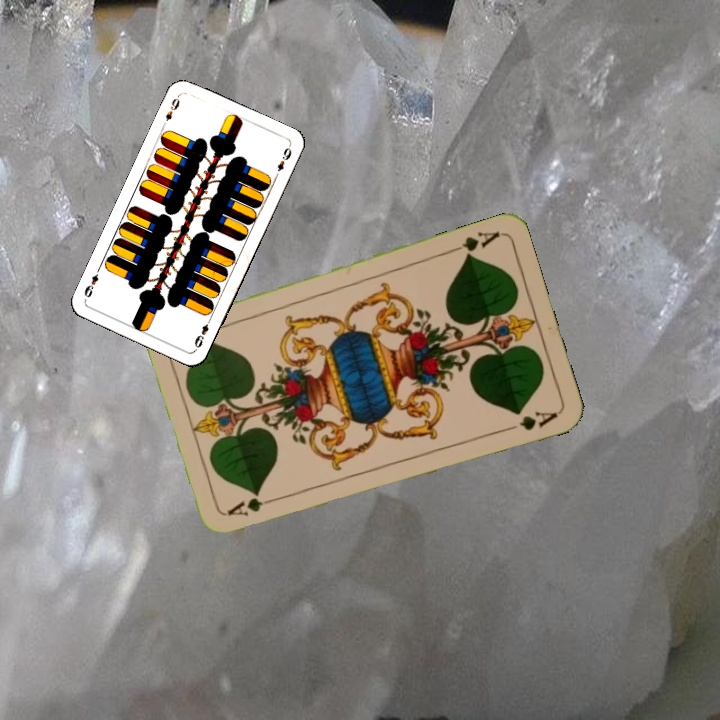E9: (190, 314, 214, 352), (159, 92, 182, 130)
GA: (445, 227, 503, 261), (224, 492, 282, 519)
